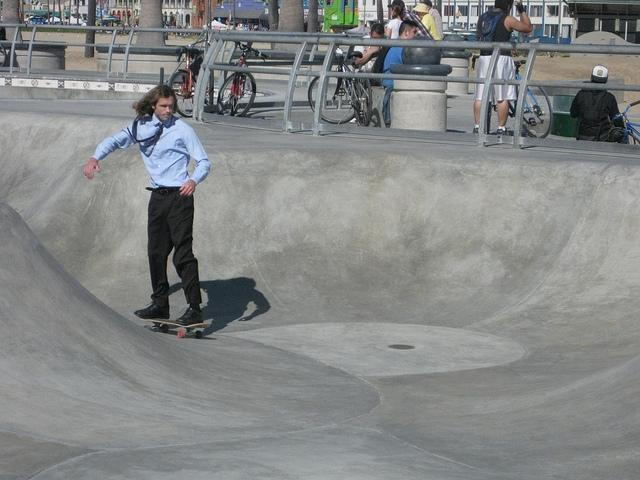bicycle: (302, 48, 384, 132), (508, 59, 557, 138), (217, 42, 268, 116), (169, 46, 210, 120), (613, 100, 640, 145)
